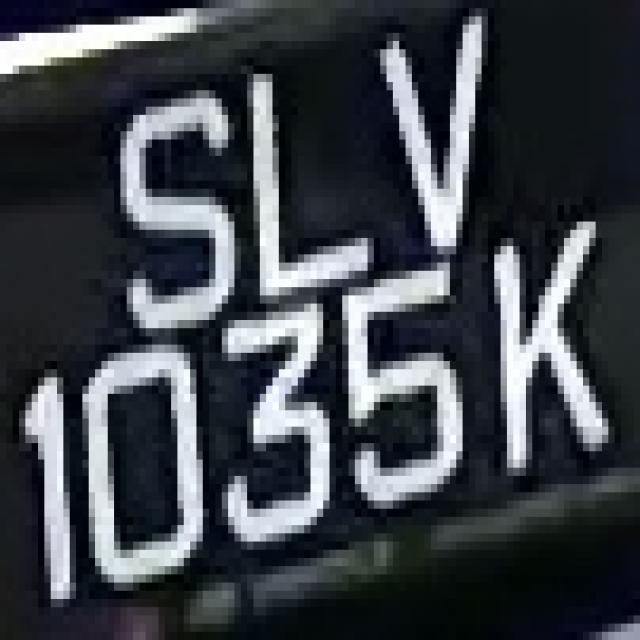0: (76, 320, 222, 607)
1: (12, 336, 88, 632)
3: (197, 287, 342, 566)
5: (323, 263, 469, 525)
K: (456, 221, 602, 476)
L: (234, 65, 374, 304)
S: (95, 90, 235, 345)
V: (342, 0, 513, 271)
